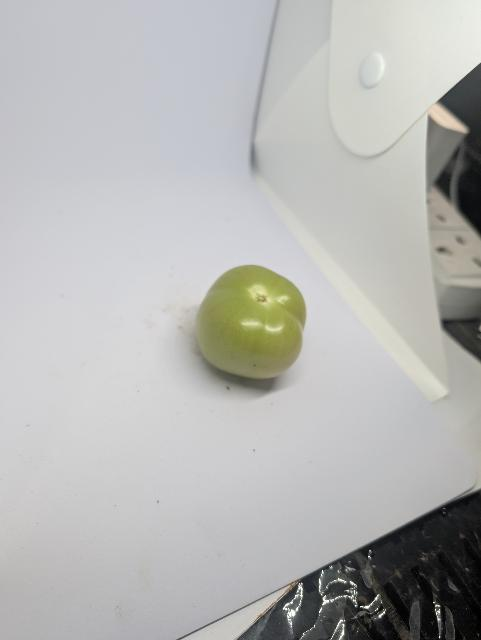green: (183, 249, 324, 388)
